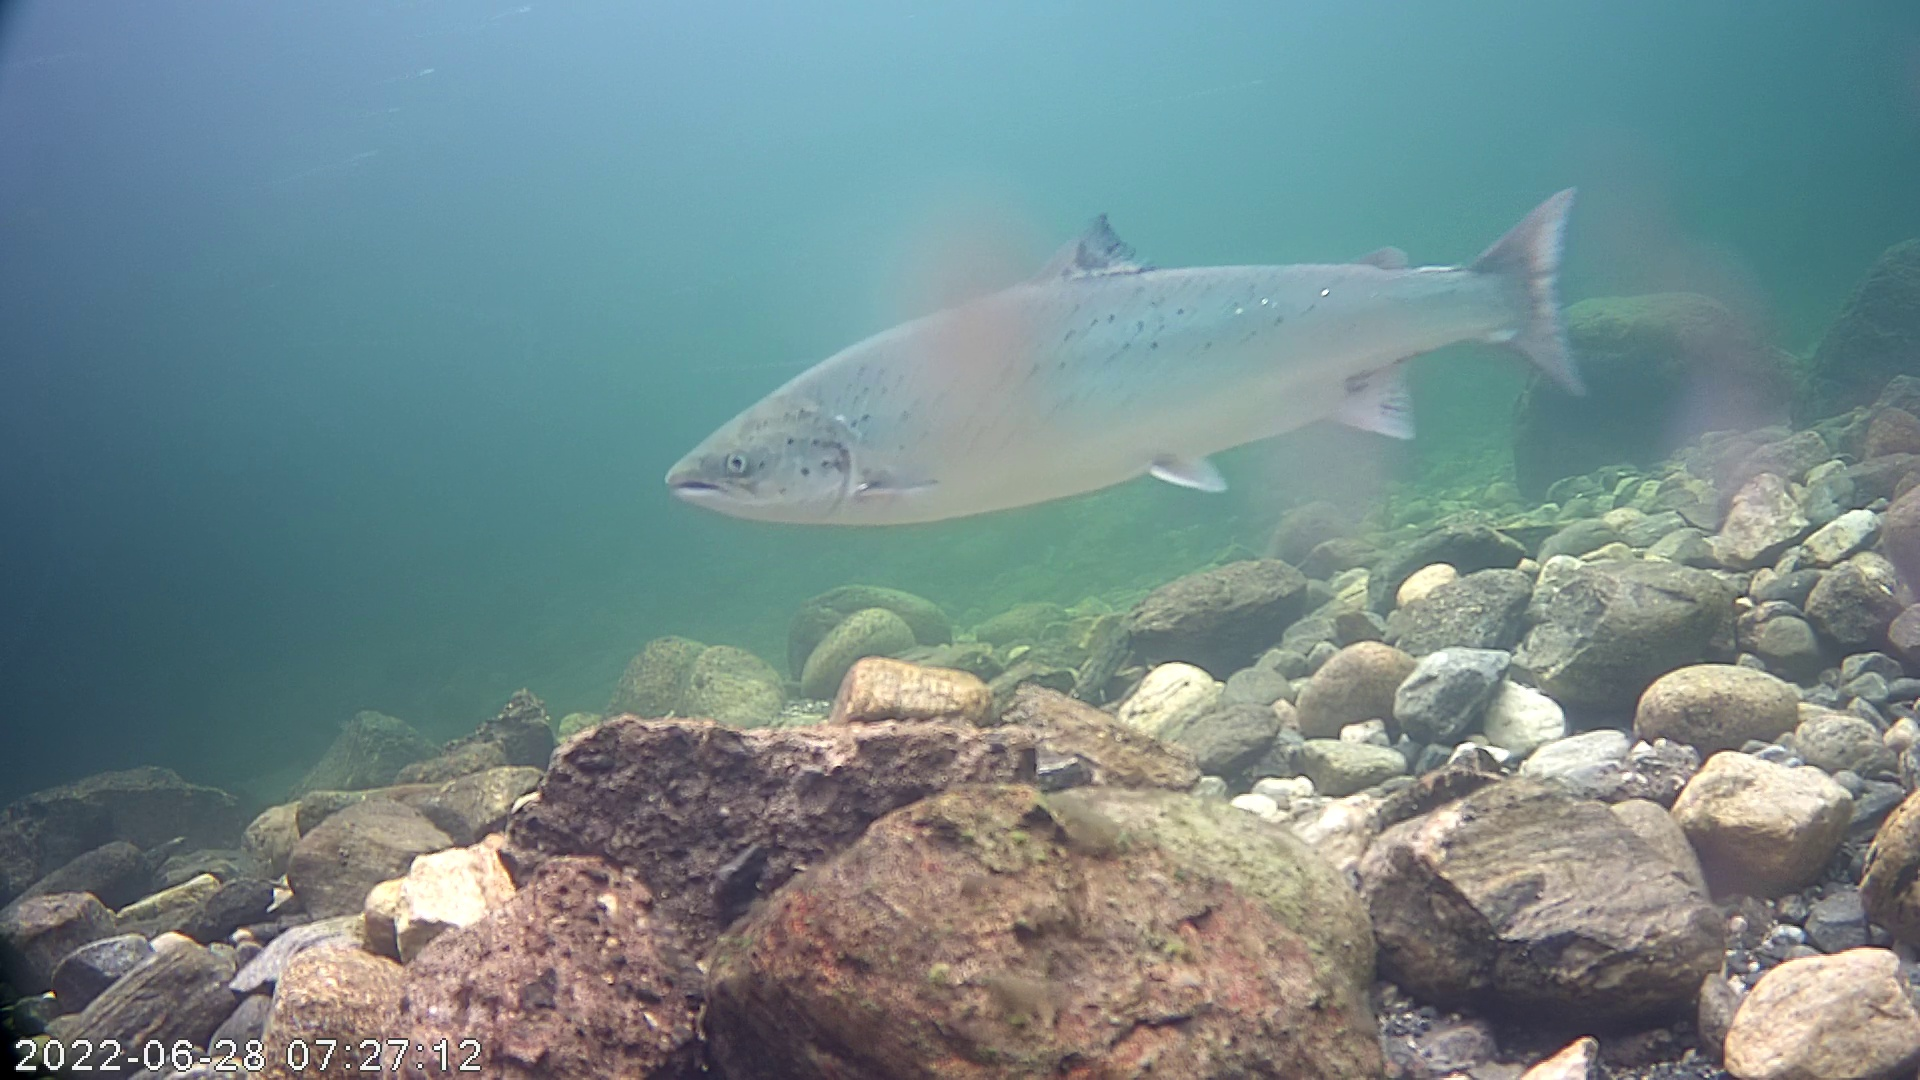salmon: (650, 117, 1625, 553)
